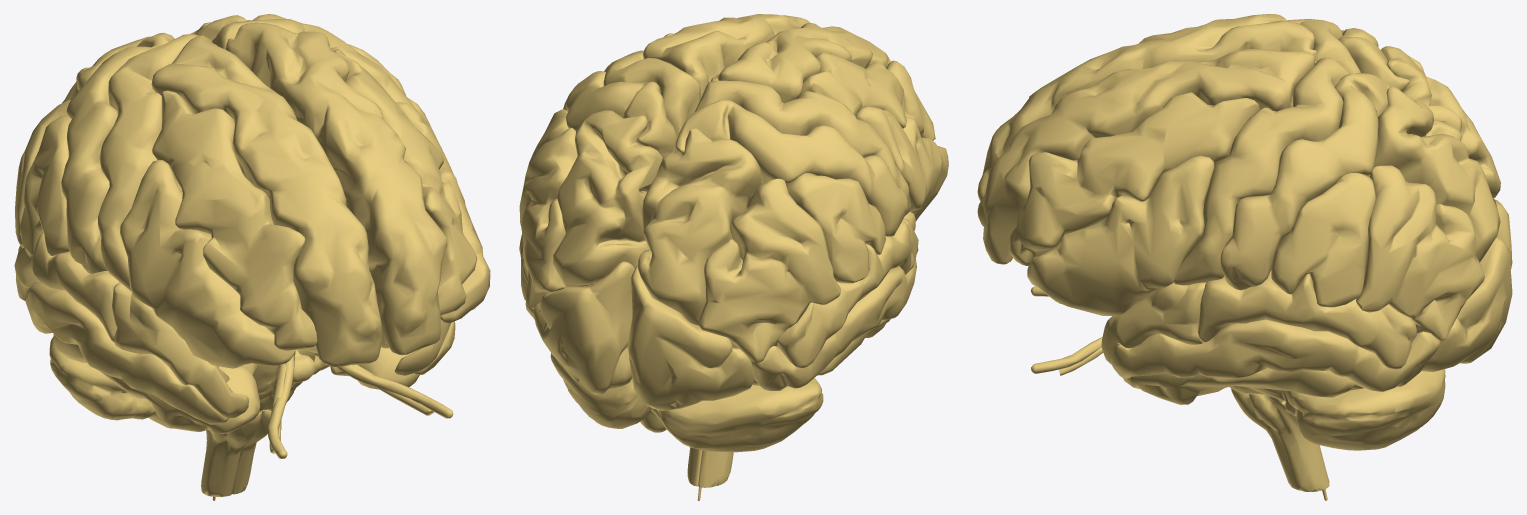
The model's file is nervous.glb.
The picture shows the model from 3 angles, left to right: view 1: azimuth 30°, elevation 25°; view 2: azimuth 150°, elevation 25°; view 3: azimuth 270°, elevation 25°; orthographic projection. The views are drawn at different scales.
Parts seen in each view (by area): view 1: frontal-lobe-r, frontal-lobe-l, temporal-lobe-r, precentral-gyrus-r, postcentral-gyrus-r, parietal-lobe-r, cerebellum, medulla-oblongata, temporal-lobe-l, precentral-gyrus-l, optic-nerve-l, optic-nerve-r (+3 smaller); view 2: parietal-lobe-r, parietal-lobe-l, frontal-lobe-r, temporal-lobe-r, cerebellum, occipital-lobe-r, postcentral-gyrus-r, occipital-lobe-l, precentral-gyrus-r, frontal-lobe-l, postcentral-gyrus-l, precentral-gyrus-l (+1 smaller); view 3: frontal-lobe-l, parietal-lobe-l, temporal-lobe-l, postcentral-gyrus-l, precentral-gyrus-l, frontal-lobe-r, cerebellum, occipital-lobe-l, medulla-oblongata, parietal-lobe-r, postcentral-gyrus-r, precentral-gyrus-r (+1 smaller).
Boxes of the visible parts, x1,y1,x2,y2 form: frontal-lobe-r: [120, 35, 382, 368]; frontal-lobe-l: [226, 22, 490, 355]; temporal-lobe-r: [14, 233, 260, 433]; precentral-gyrus-r: [98, 34, 199, 291]; postcentral-gyrus-r: [61, 32, 174, 273]; parietal-lobe-r: [15, 36, 150, 256]; cerebellum: [49, 336, 329, 428]; medulla-oblongata: [201, 410, 271, 497]; temporal-lobe-l: [314, 320, 455, 389]; precentral-gyrus-l: [212, 19, 429, 127]; optic-nerve-l: [336, 364, 453, 418]; optic-nerve-r: [267, 351, 295, 458]; parietal-lobe-r: [638, 128, 885, 362]; parietal-lobe-l: [519, 109, 662, 308]; frontal-lobe-r: [710, 23, 948, 221]; temporal-lobe-r: [751, 211, 918, 390]; cerebellum: [550, 353, 823, 452]; occipital-lobe-r: [627, 265, 754, 410]; postcentral-gyrus-r: [675, 99, 907, 236]; occipital-lobe-l: [533, 261, 634, 395]; precentral-gyrus-r: [695, 80, 911, 215]; frontal-lobe-l: [643, 14, 810, 99]; postcentral-gyrus-l: [563, 71, 677, 156]; precentral-gyrus-l: [603, 50, 700, 154]; frontal-lobe-l: [977, 49, 1316, 316]; parietal-lobe-l: [1271, 86, 1500, 340]; temporal-lobe-l: [1101, 270, 1439, 404]; postcentral-gyrus-l: [1220, 73, 1390, 290]; precentral-gyrus-l: [1173, 57, 1349, 285]; frontal-lobe-r: [977, 14, 1316, 201]; cerebellum: [1282, 369, 1445, 450]; occipital-lobe-l: [1421, 237, 1512, 372]; medulla-oblongata: [1231, 388, 1329, 491]; parietal-lobe-r: [1381, 46, 1500, 197]; postcentral-gyrus-r: [1338, 28, 1409, 91]; precentral-gyrus-r: [1287, 19, 1360, 73].
Bounding box in the file's own units: 0.1408 × 0.1719 × 0.18.
